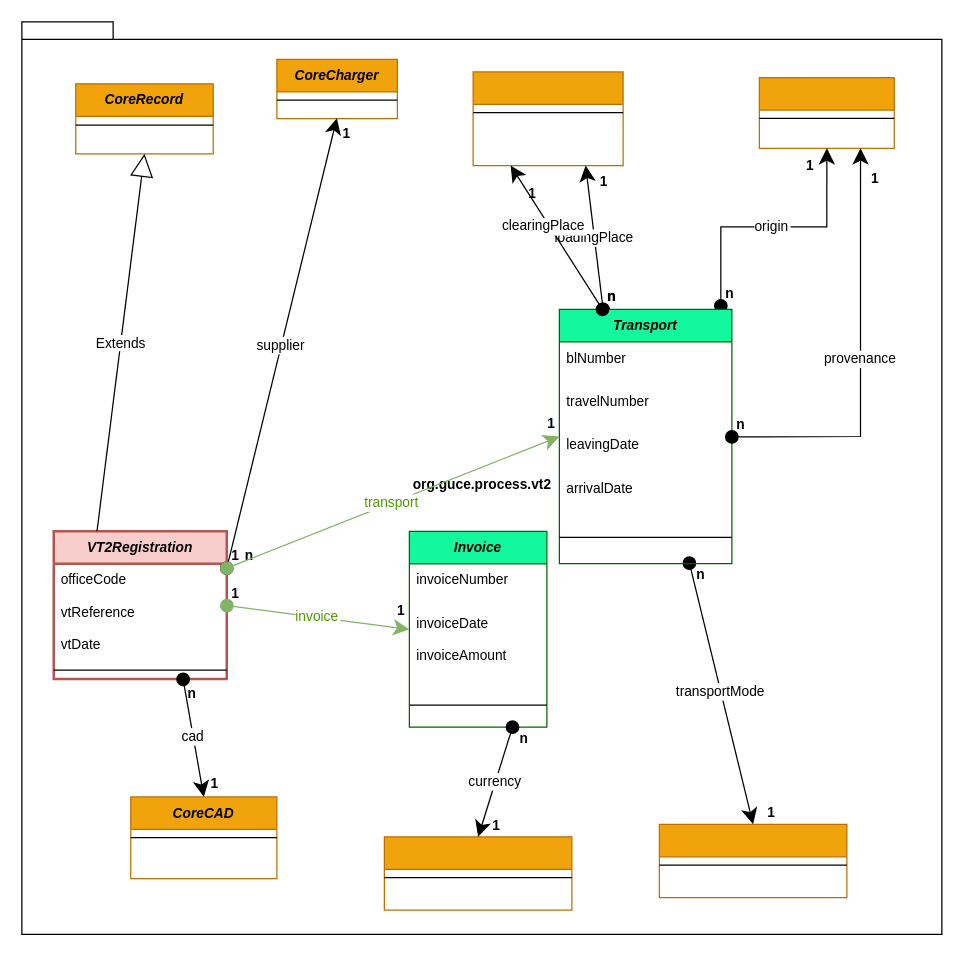
Some shapes in this 964 by 956 pixel diagram are drawn without their labels. The shapes that lost their labels are listed below. From the top down, each one's centre as x and y in pixels, then its label:
pixel 547 118: RepCustomsOffice
pixel 826 112: CorePays
pixel 477 873: RepCurrency
pixel 752 860: RepTransportMode
